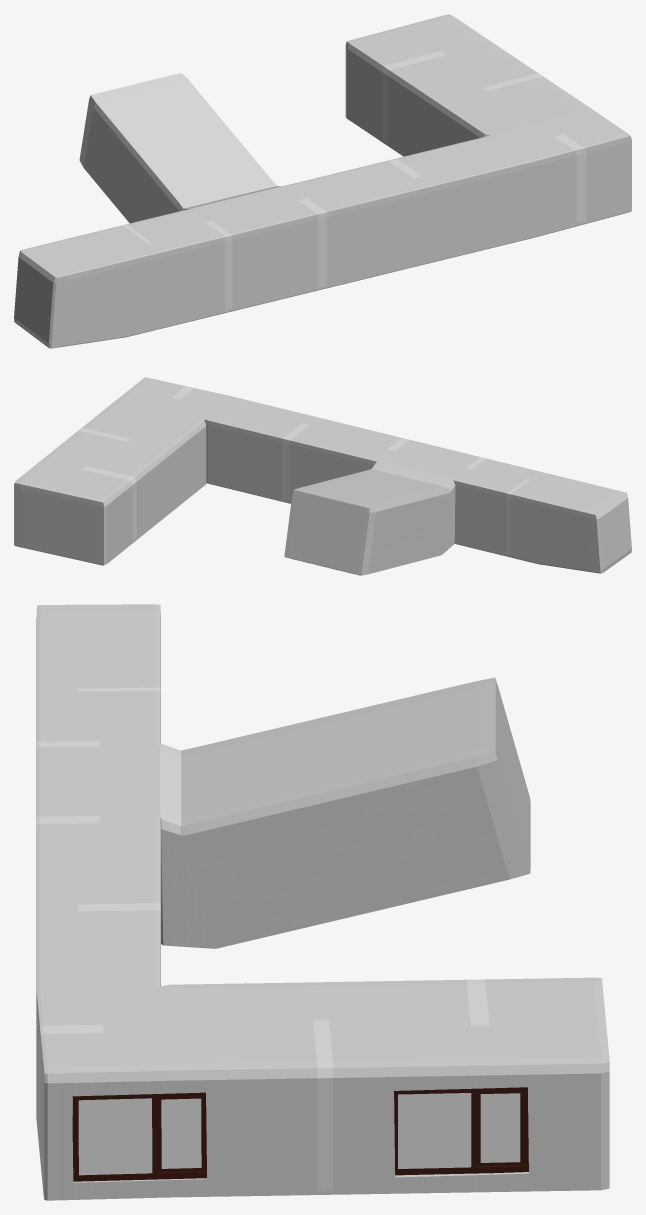
Rendered from office.fbx.
3 renders of one model, top to bottom at view 1: azimuth 30°, elevation 25°; view 2: azimuth 150°, elevation 25°; view 3: azimuth 270°, elevation 25°, orthographic. The views are drawn at different scales.
Visible parts, largest first — view 1: hotal; view 2: hotal; view 3: hotal, Cube.000, Cube.001.
Part boxes in pixels (x1,y1,x2,y2): hotal: (14, 14, 631, 348); hotal: (14, 377, 631, 575); hotal: (36, 604, 609, 1200); Cube.000: (72, 1092, 206, 1181); Cube.001: (394, 1087, 528, 1175).
Bounding box in the file's own units: 553 × 107 × 282.
